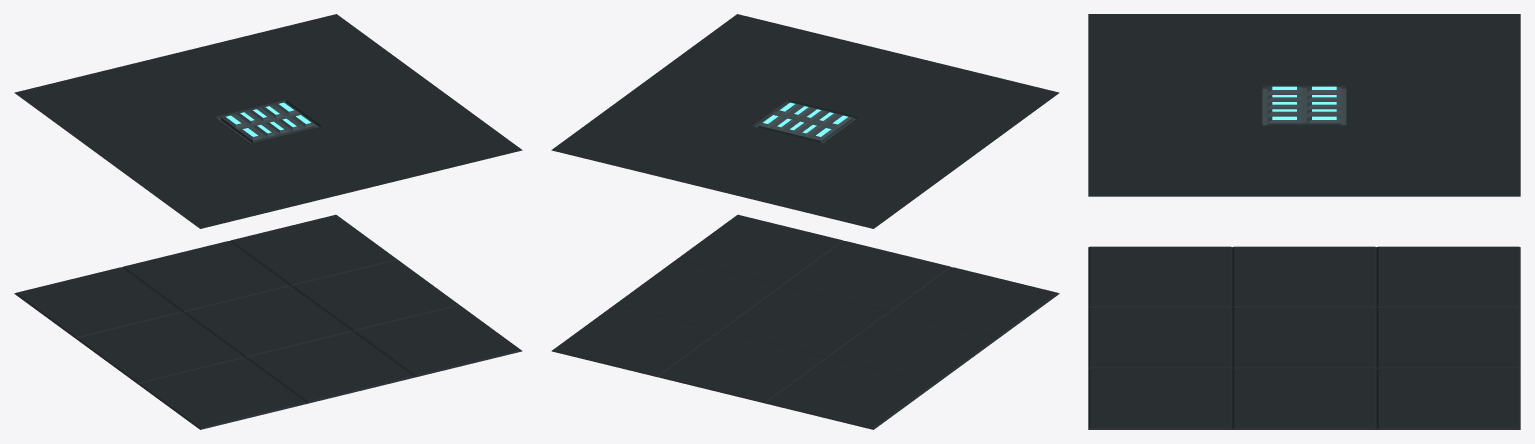
Rendered from hallMid01.fbx.
The picture shows the model from 3 angles, left to right: view 1: azimuth 30°, elevation 25°; view 2: azimuth 150°, elevation 25°; view 3: azimuth 270°, elevation 25°; orthographic projection. The views are drawn at different scales.
Visible parts, largest first — view 1: hallMid01; view 2: hallMid01; view 3: hallMid01.
Boxes of the visible parts, bbox=[...] form: hallMid01: bbox=[14, 14, 522, 429]; hallMid01: bbox=[551, 14, 1059, 429]; hallMid01: bbox=[1088, 14, 1520, 429].
Size of what is drawn, in the model's own units: 6 by 6 by 3.6.
